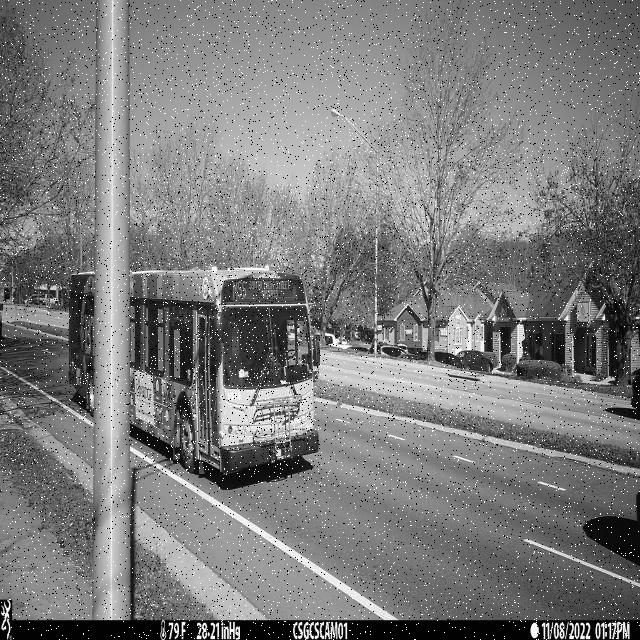Bus: (129, 267, 321, 477), (68, 270, 96, 418)
